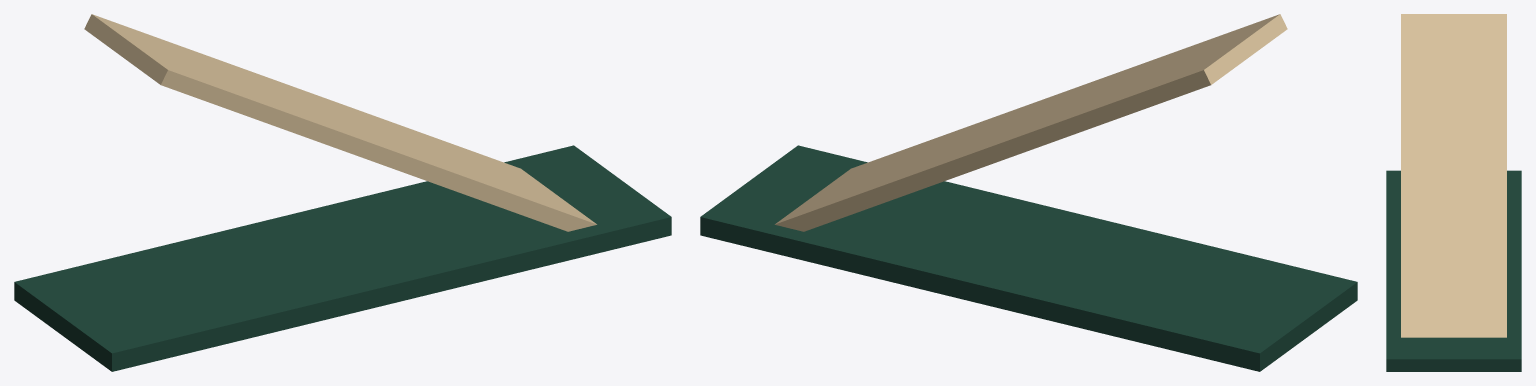
The model's file is incline_ramp_rig.glb.
The picture shows the model from 3 angles, left to right: view 1: azimuth 30°, elevation 25°; view 2: azimuth 150°, elevation 25°; view 3: azimuth 270°, elevation 25°; orthographic projection. The views are drawn at different scales.
Visible parts, largest first — view 1: Ramp_Base, Ramp_Track; view 2: Ramp_Base, Ramp_Track; view 3: Ramp_Track, Ramp_Base.
Part boxes in pixels (x1,y1,x2,y2): Ramp_Base: (14, 145, 671, 371); Ramp_Track: (84, 14, 596, 231); Ramp_Base: (700, 145, 1357, 371); Ramp_Track: (775, 14, 1287, 231); Ramp_Track: (1401, 14, 1506, 337); Ramp_Base: (1386, 170, 1521, 371).
Bounding box in the file's own units: 3.8 × 1.8 × 1.15.
